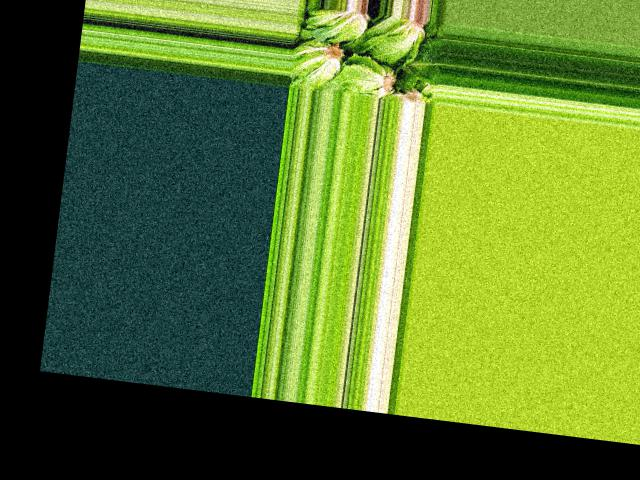lettuce: (404, 46, 443, 85)
